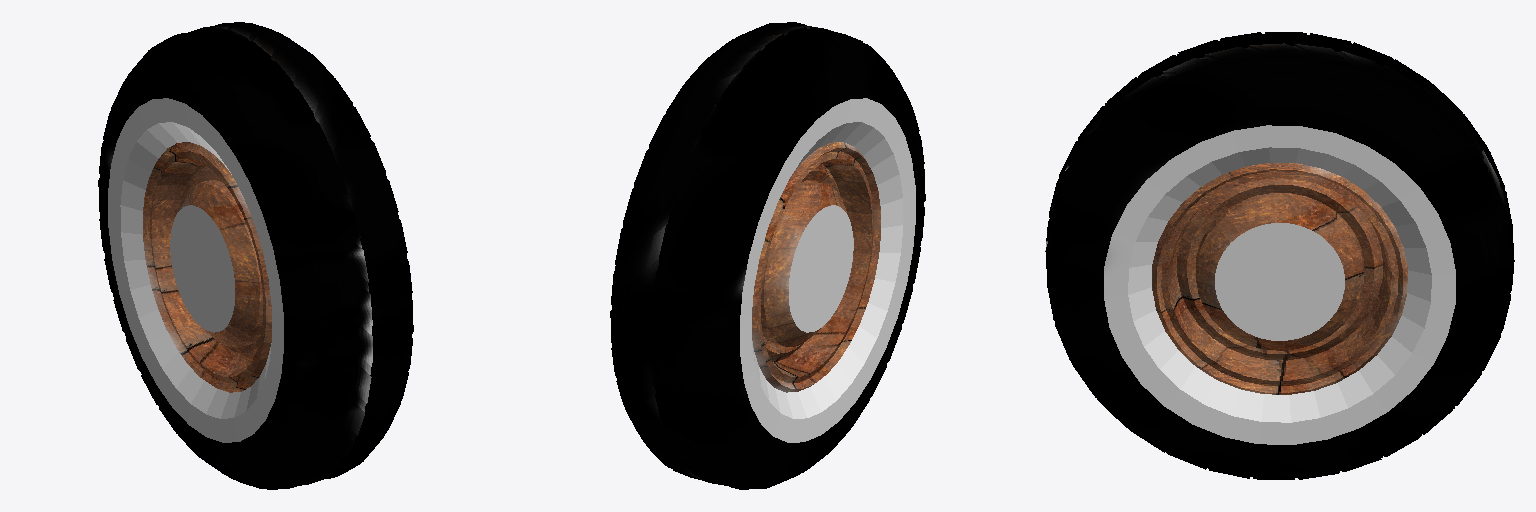
The picture shows the model from 3 angles: view 1: azimuth 30°, elevation 25°; view 2: azimuth 150°, elevation 25°; view 3: azimuth 270°, elevation 25°; orthographic projection.
Parts seen in each view (by area): view 1: tyre.001_Cylinder.002; view 2: tyre.001_Cylinder.002; view 3: tyre.001_Cylinder.002.
Part boxes in pixels (x1,y1,x2,y2): tyre.001_Cylinder.002: (98, 22, 413, 489); tyre.001_Cylinder.002: (610, 22, 925, 489); tyre.001_Cylinder.002: (1045, 32, 1514, 479).
Size of the model in its own units: 0.6582 by 2.23 by 2.23.
Materials: 2 (1 with a texture image).